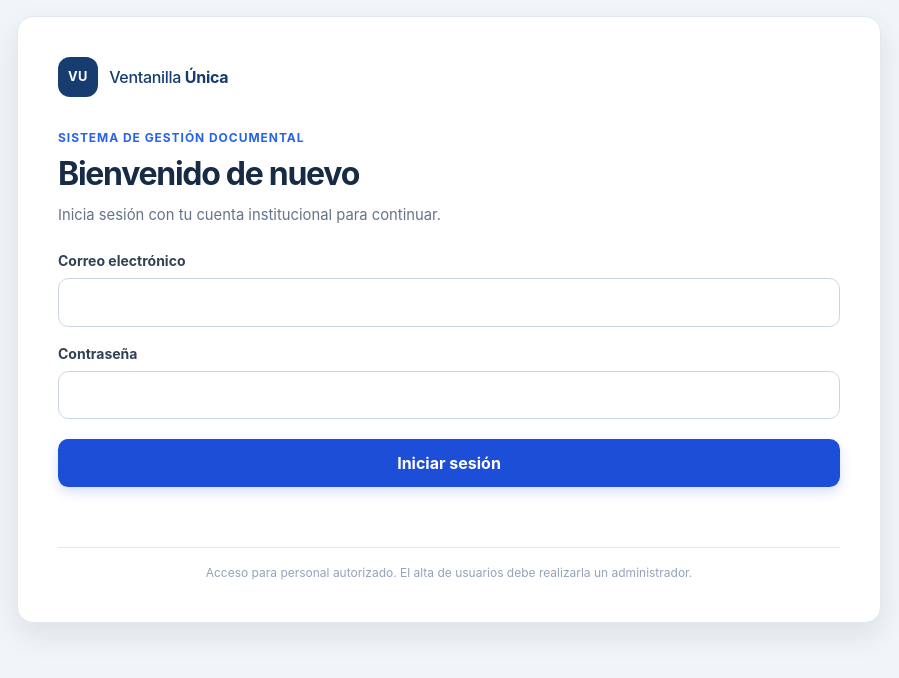
inicio de sesión React › muestra el error del servidor y no guarda sesión si falla el inicio
Type "persona@ejemplo.com" into the field labelled "Correo electrónico" at (449, 302), box [58,278,840,327]
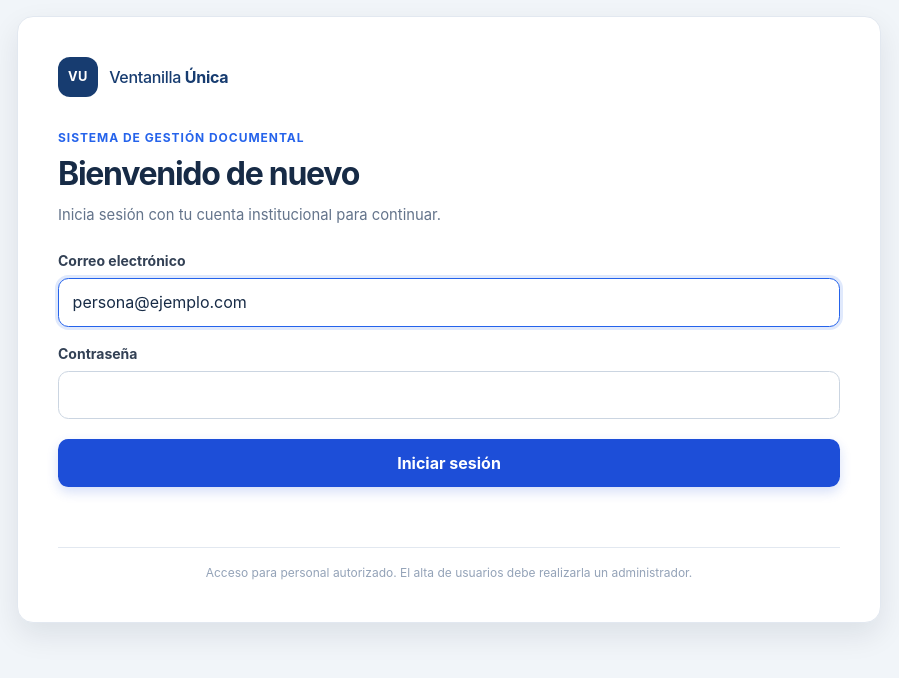
Type "clave-de-prueba" into the password field labelled "Contraseña" at (449, 395), box [58,371,840,419]
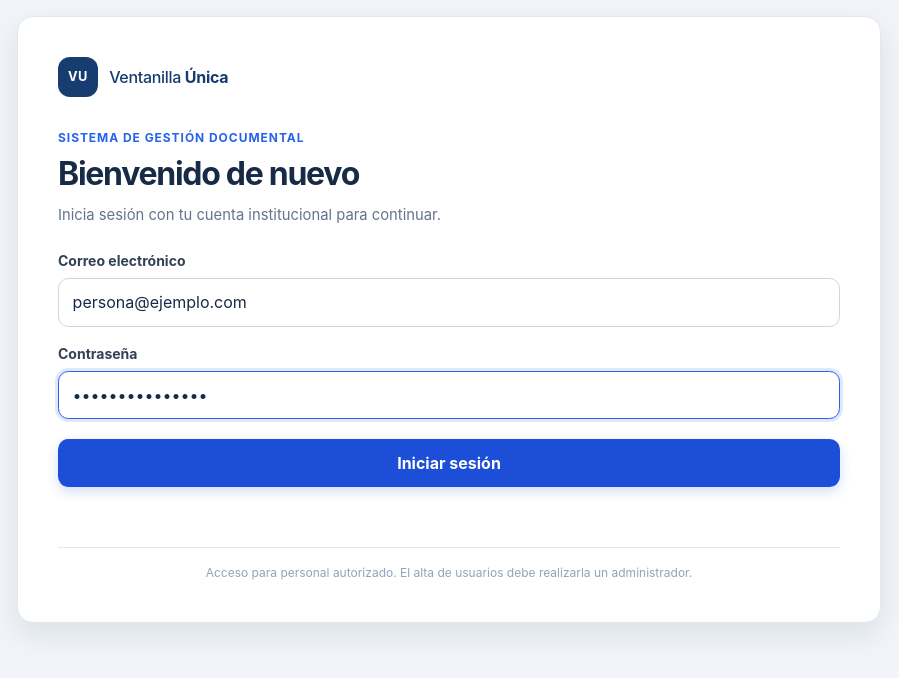
Click the button "Iniciar sesión" at (449, 463), box [58,439,840,487]
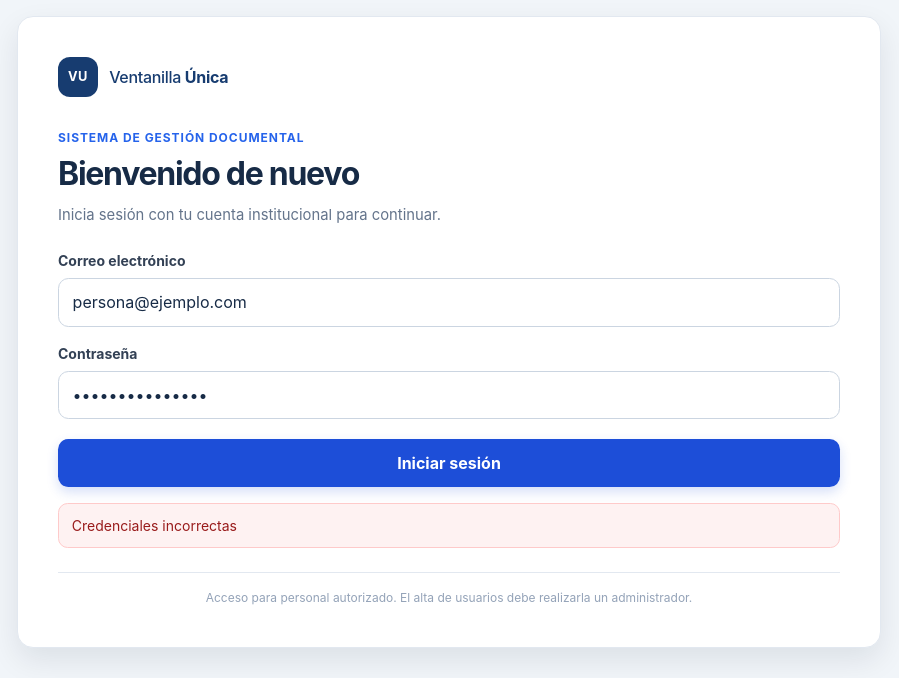
Check: the text "Credenciales incorrectas" is shown, box [58,503,840,548]
